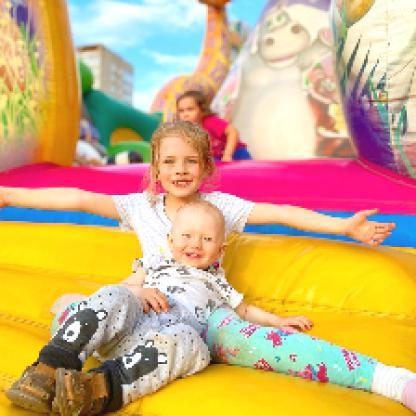child: (3, 200, 315, 416), (1, 121, 399, 258)
